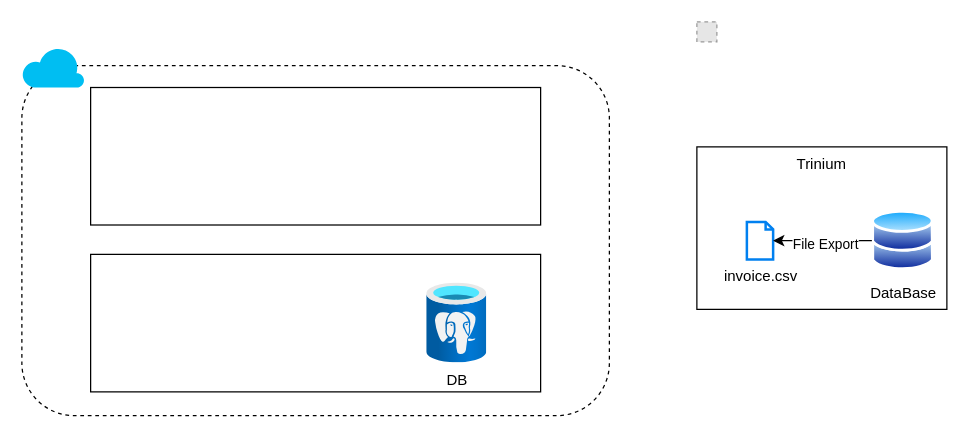
Image size: 969x438. Some labels were removed from this diagram. Grey dashed boxes stand in for pictures. The box of each missing label's shape, as (x1, y1, x2, y2) in pixels:
Wheelz Backend: (89, 253, 541, 392)
Wheelz Frontend: (89, 86, 541, 225)
